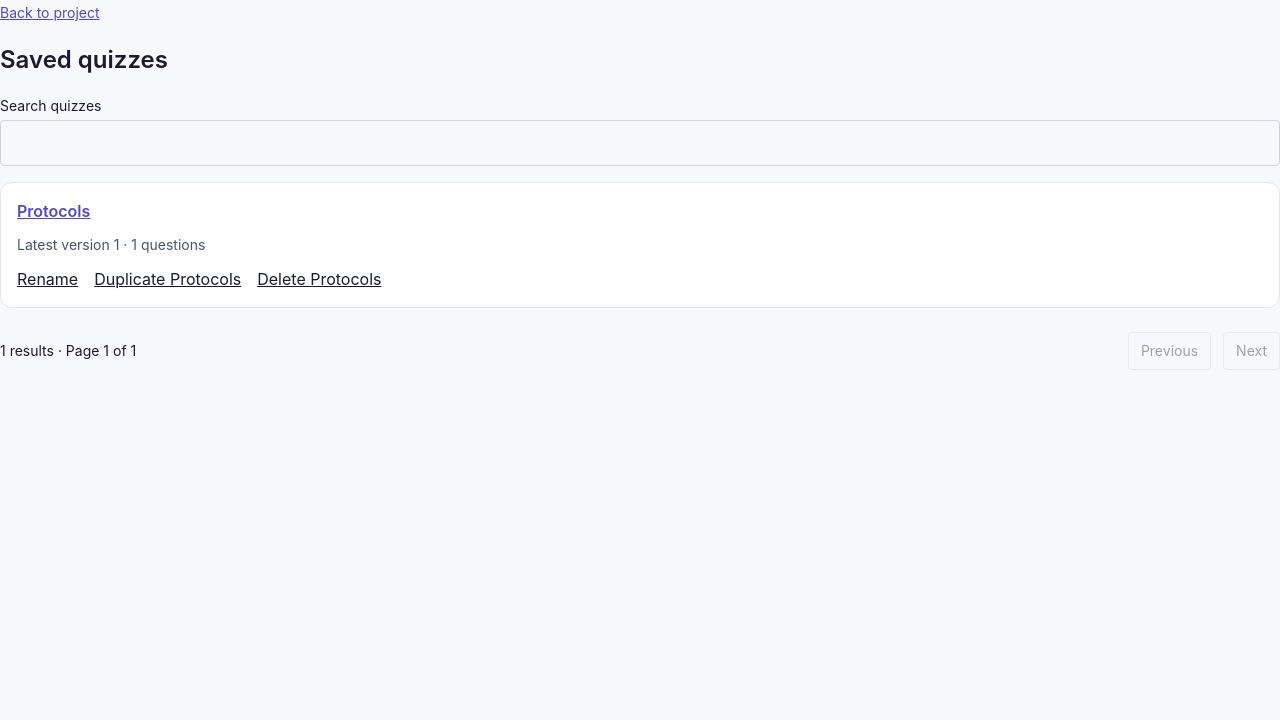
Scenario: duplicates independently, renames and confirms deletion with historical retention feedback
This screenshot has width=1280, height=720.
Click the button "Duplicate Protocols" at (168,279), box [94,267,241,291]
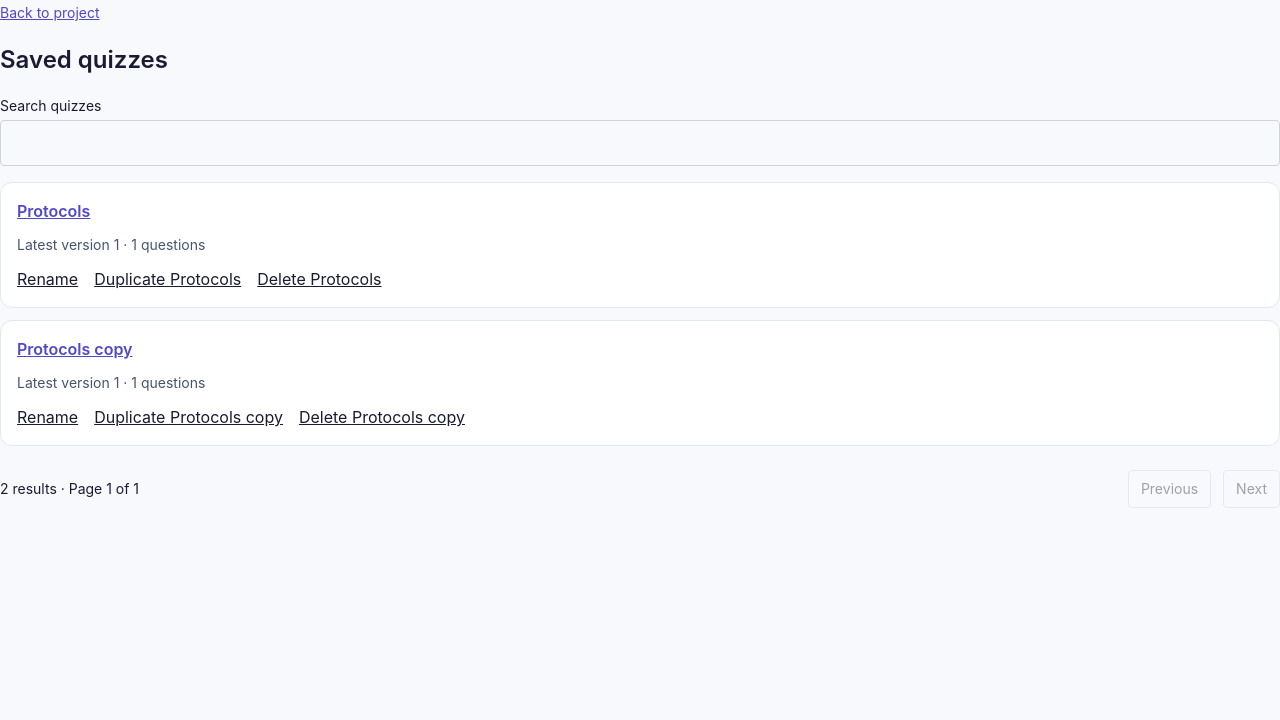
Expected: the link "Protocols copy" is shown, [17,339,132,359]
Click the 1st button "Rename" at (48,279), box [17,267,78,291]
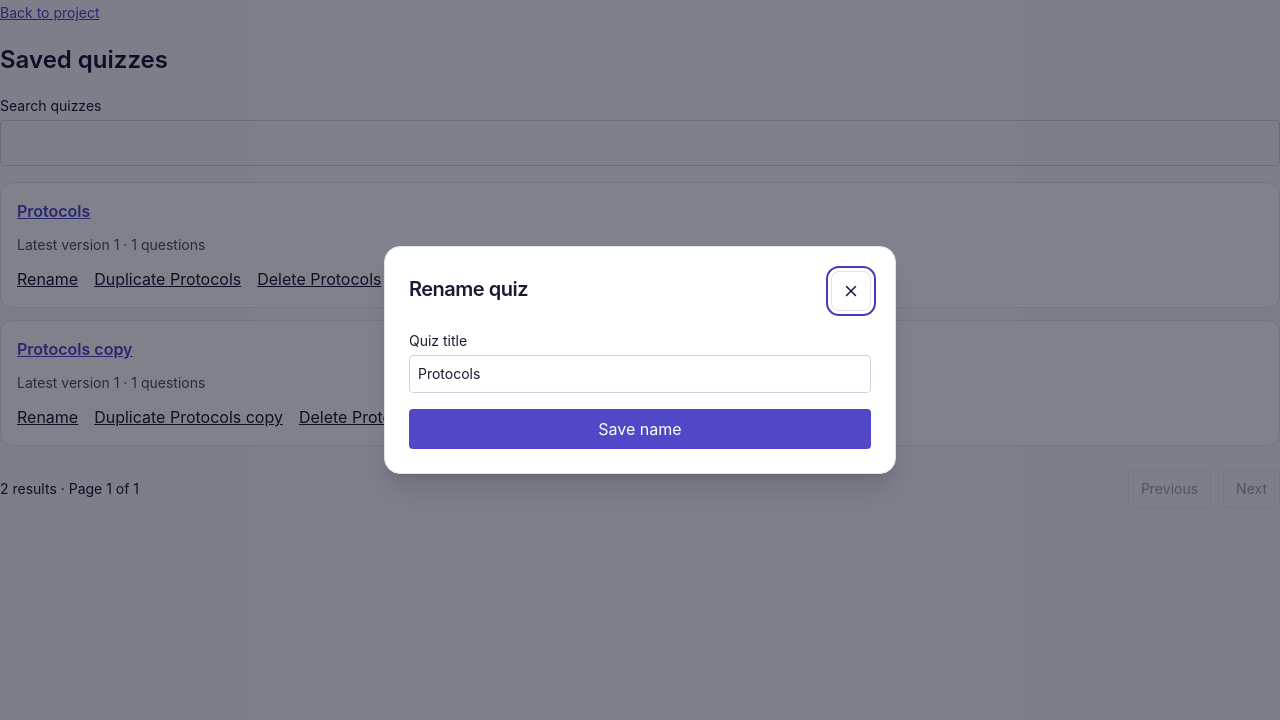
Replace the text in the field labelled "Quiz title" with "Edited protocols" at (640,374), box [409,355,871,393]
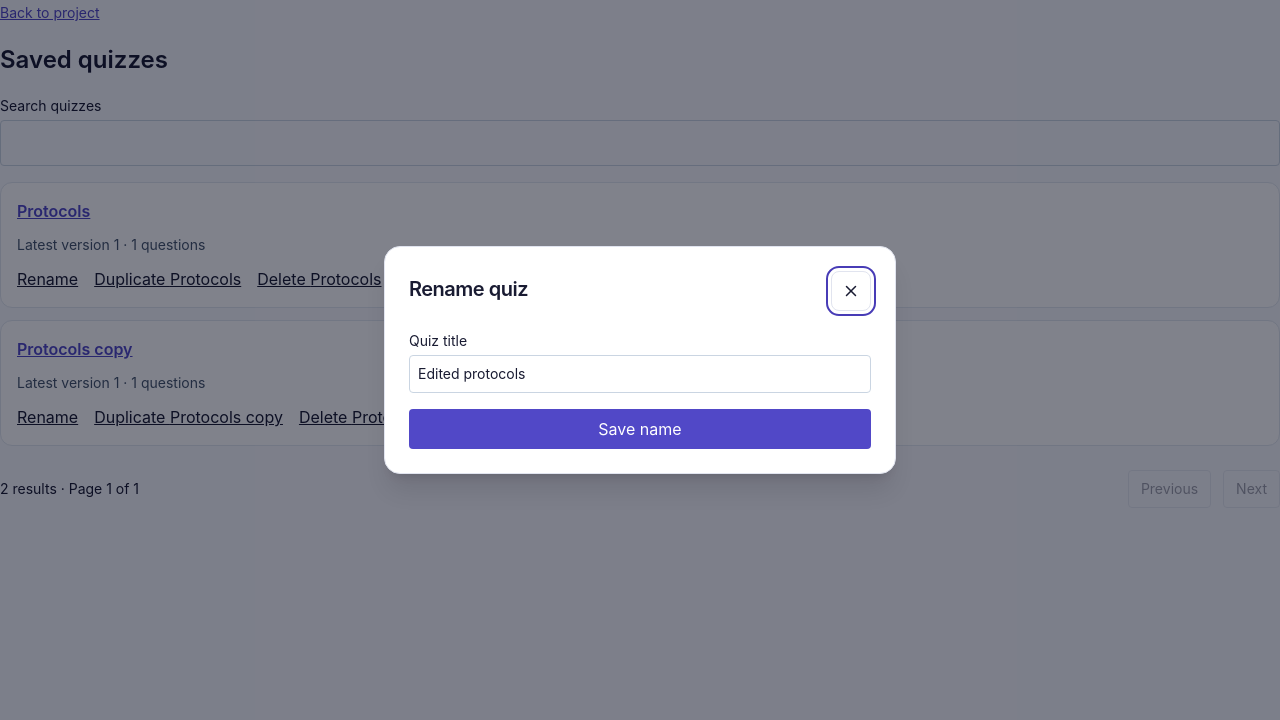
Click the button "Save name" at (640,429), box [409,409,871,449]
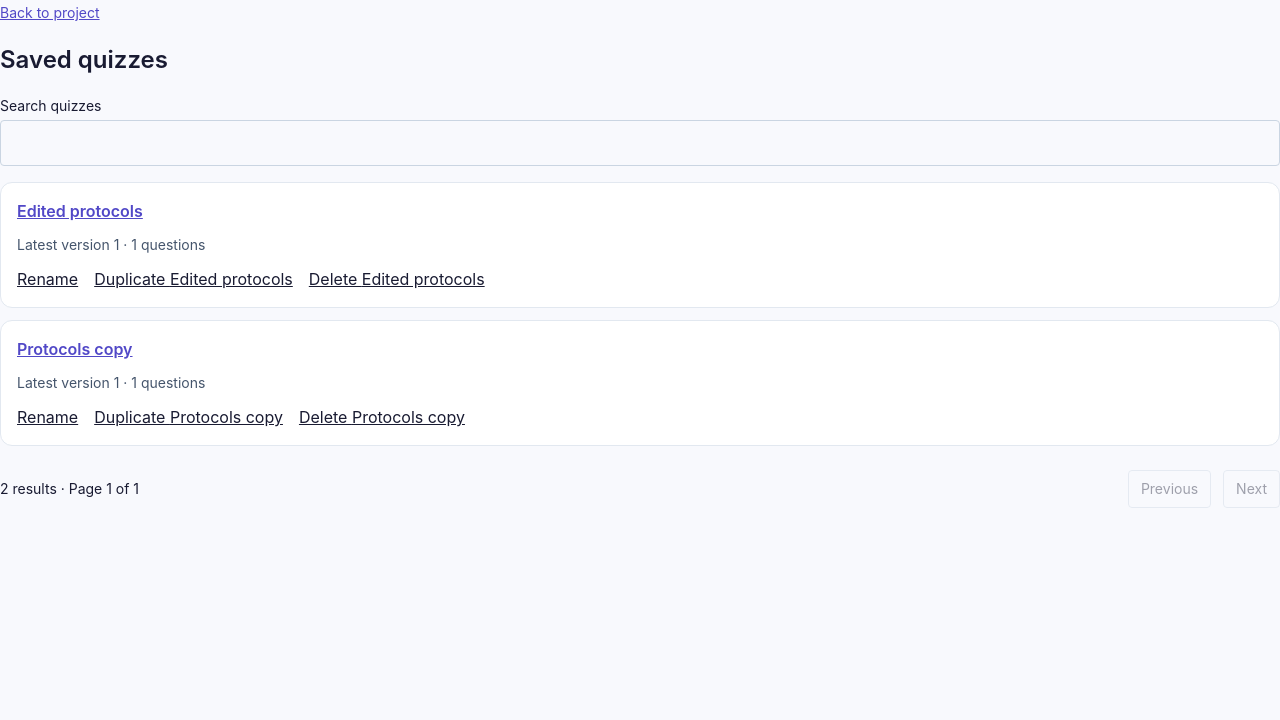
Expected: the link "Edited protocols" is shown, [17,201,143,221]
Click the button "Delete Edited protocols" at (397,279), box [309,267,485,291]
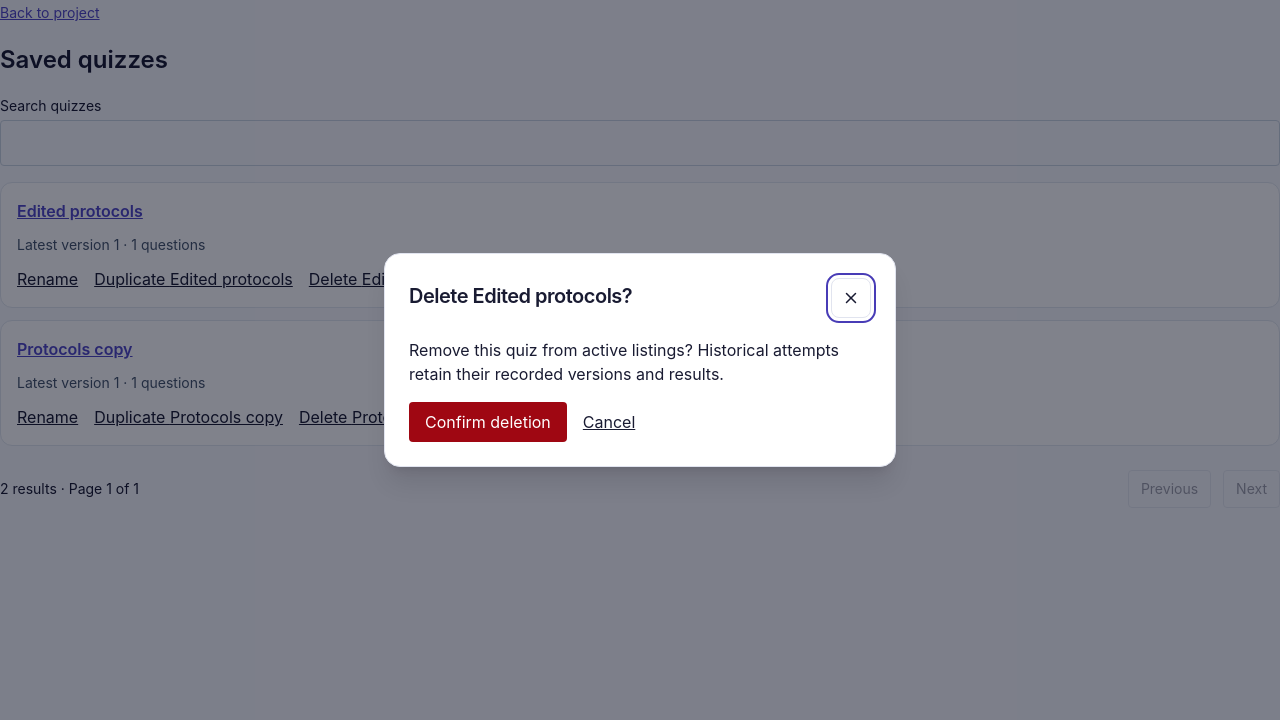
Expected: the text "Historical attempts retain" is shown, [409,340,839,384]
Click the button "Confirm deletion" at (488,422), box [409,402,567,442]
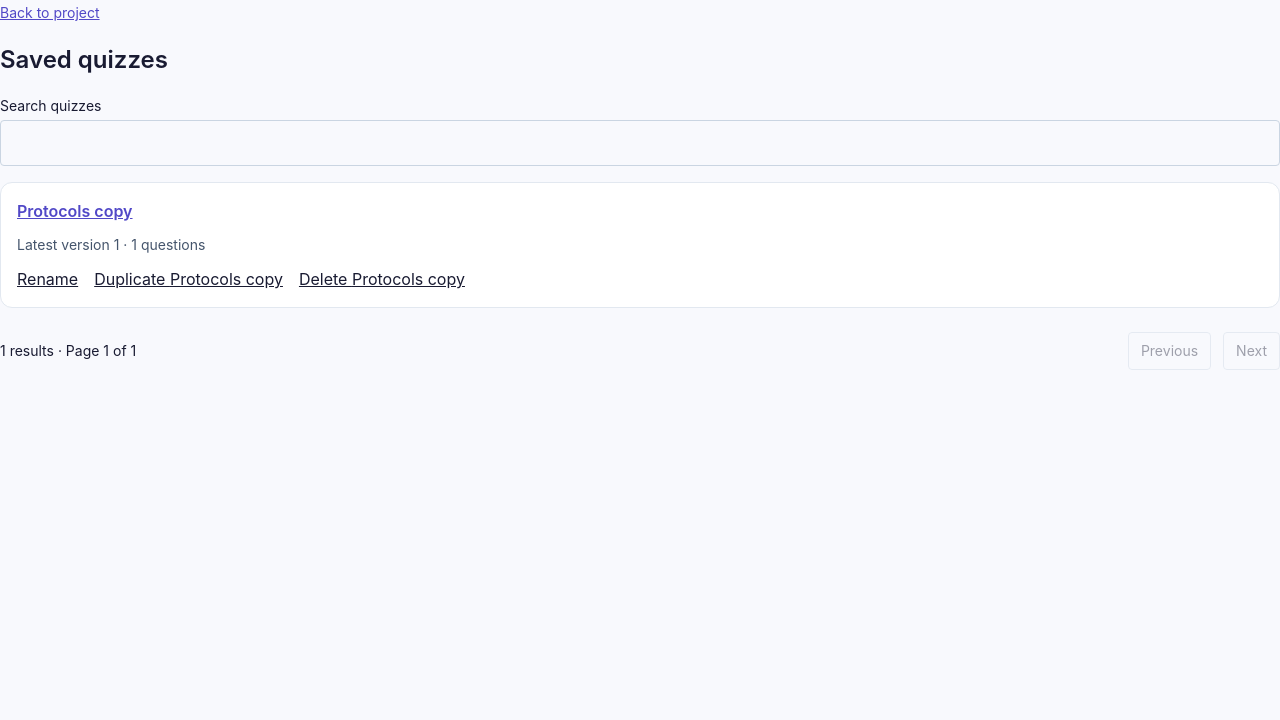
Expected: the link "Protocols copy" is shown, [17,201,132,221]
Expected: the link "Edited protocols" is gone
